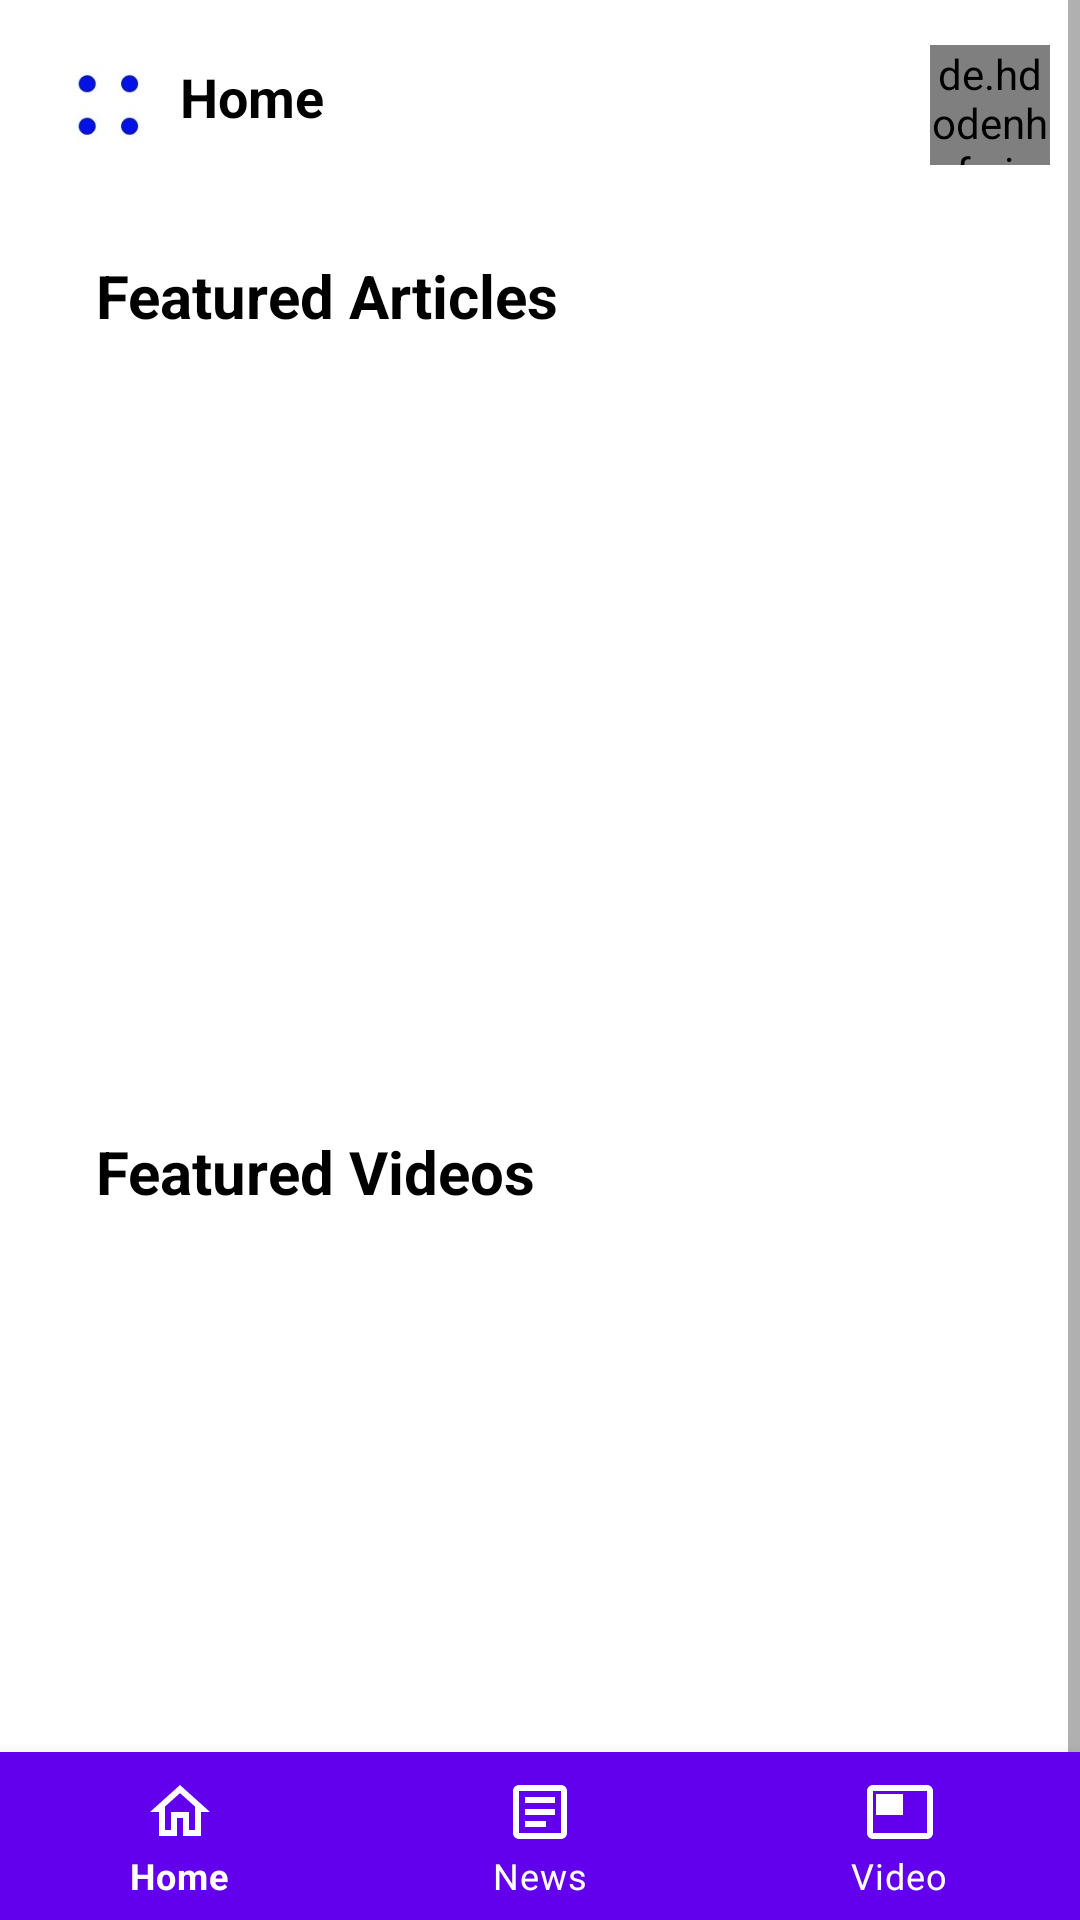

Icons on this 1080 × 1920 Android screen, each with the point to tap as (x,y):
fourdot: (108,105)
